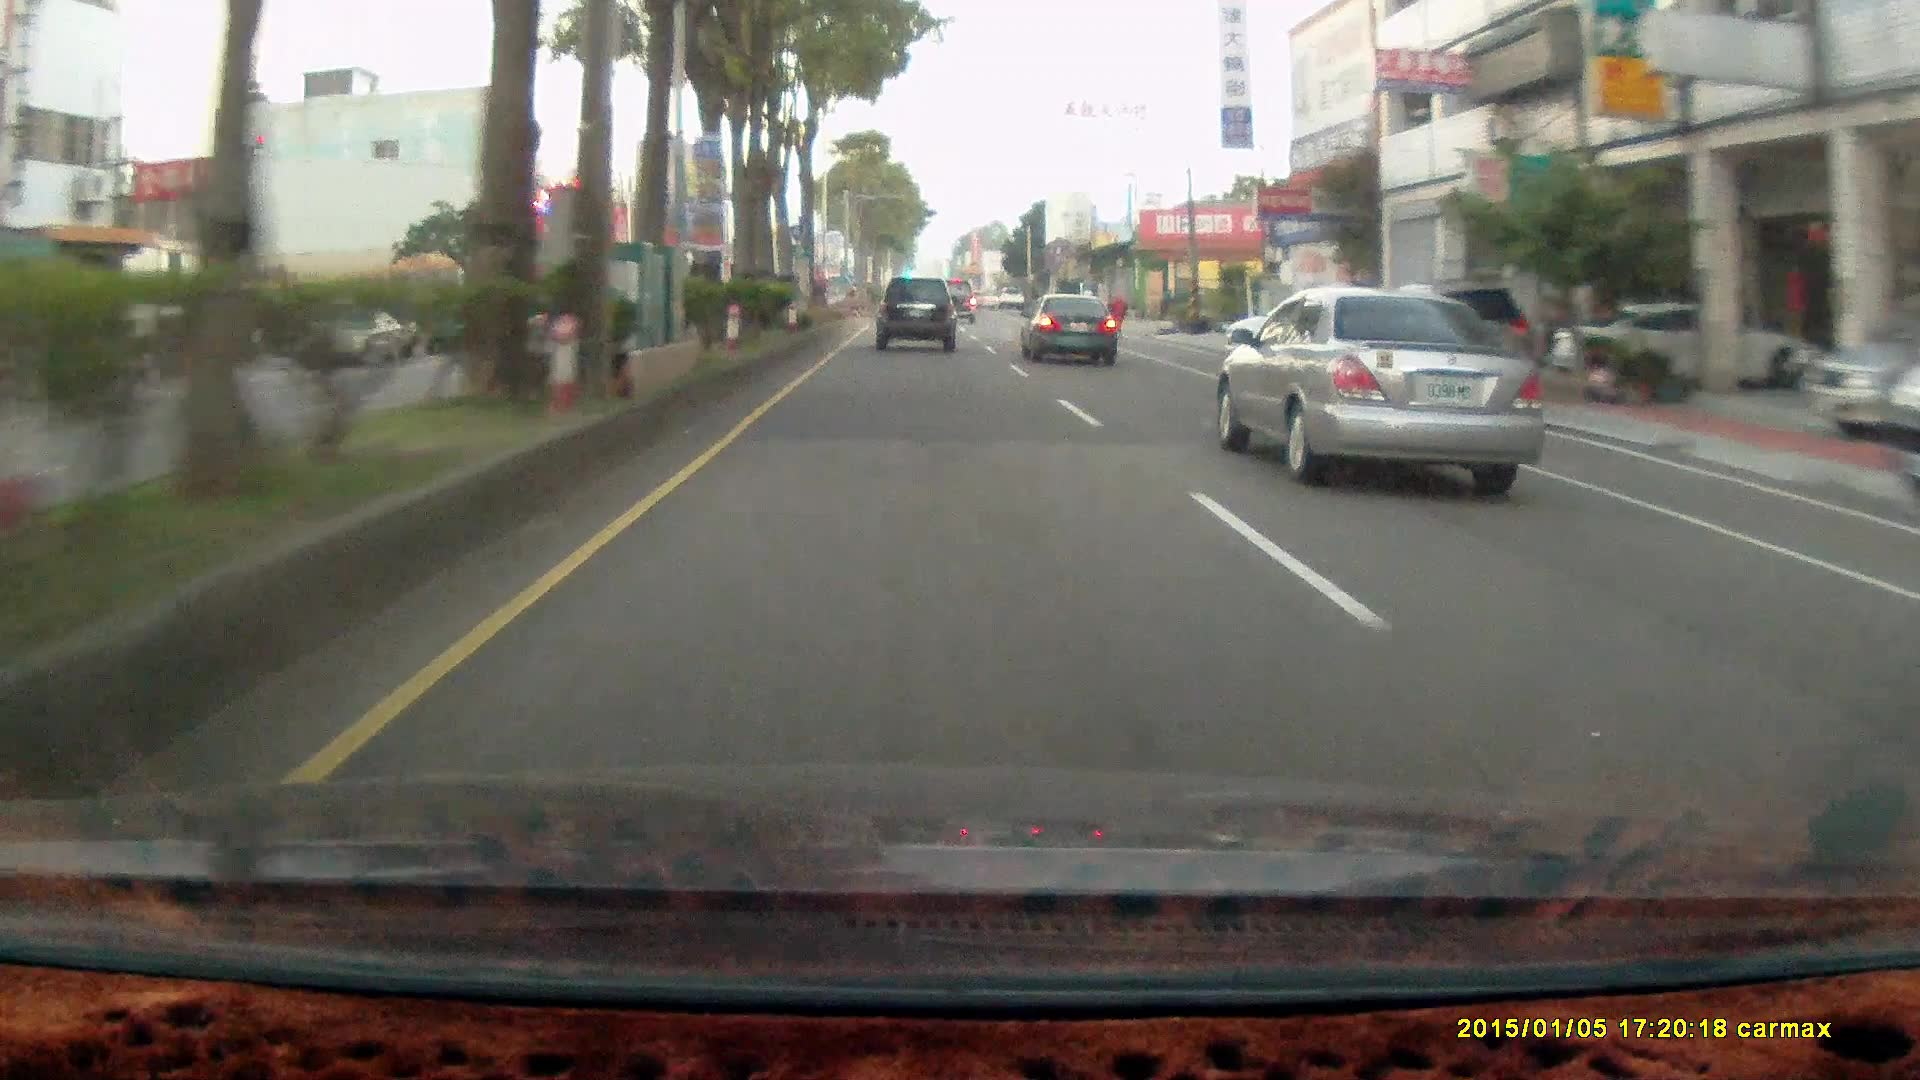pedestrian: (1107, 290, 1127, 335)
vehicle: (1218, 291, 1545, 482), (1542, 305, 1829, 390), (1366, 284, 1558, 405), (1019, 292, 1122, 369), (1019, 290, 1117, 365), (874, 276, 960, 356), (1879, 359, 1920, 513), (874, 277, 955, 352), (935, 279, 978, 324)
